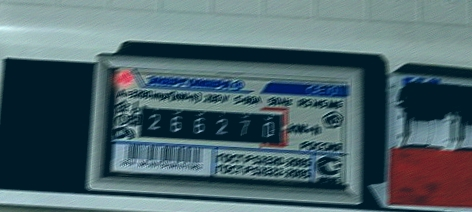0: (260, 122, 273, 139)
2: (146, 113, 160, 132), (214, 118, 226, 137)
6: (168, 115, 181, 134), (191, 118, 204, 136)
7: (237, 119, 249, 138)
screen: (128, 97, 293, 155)
